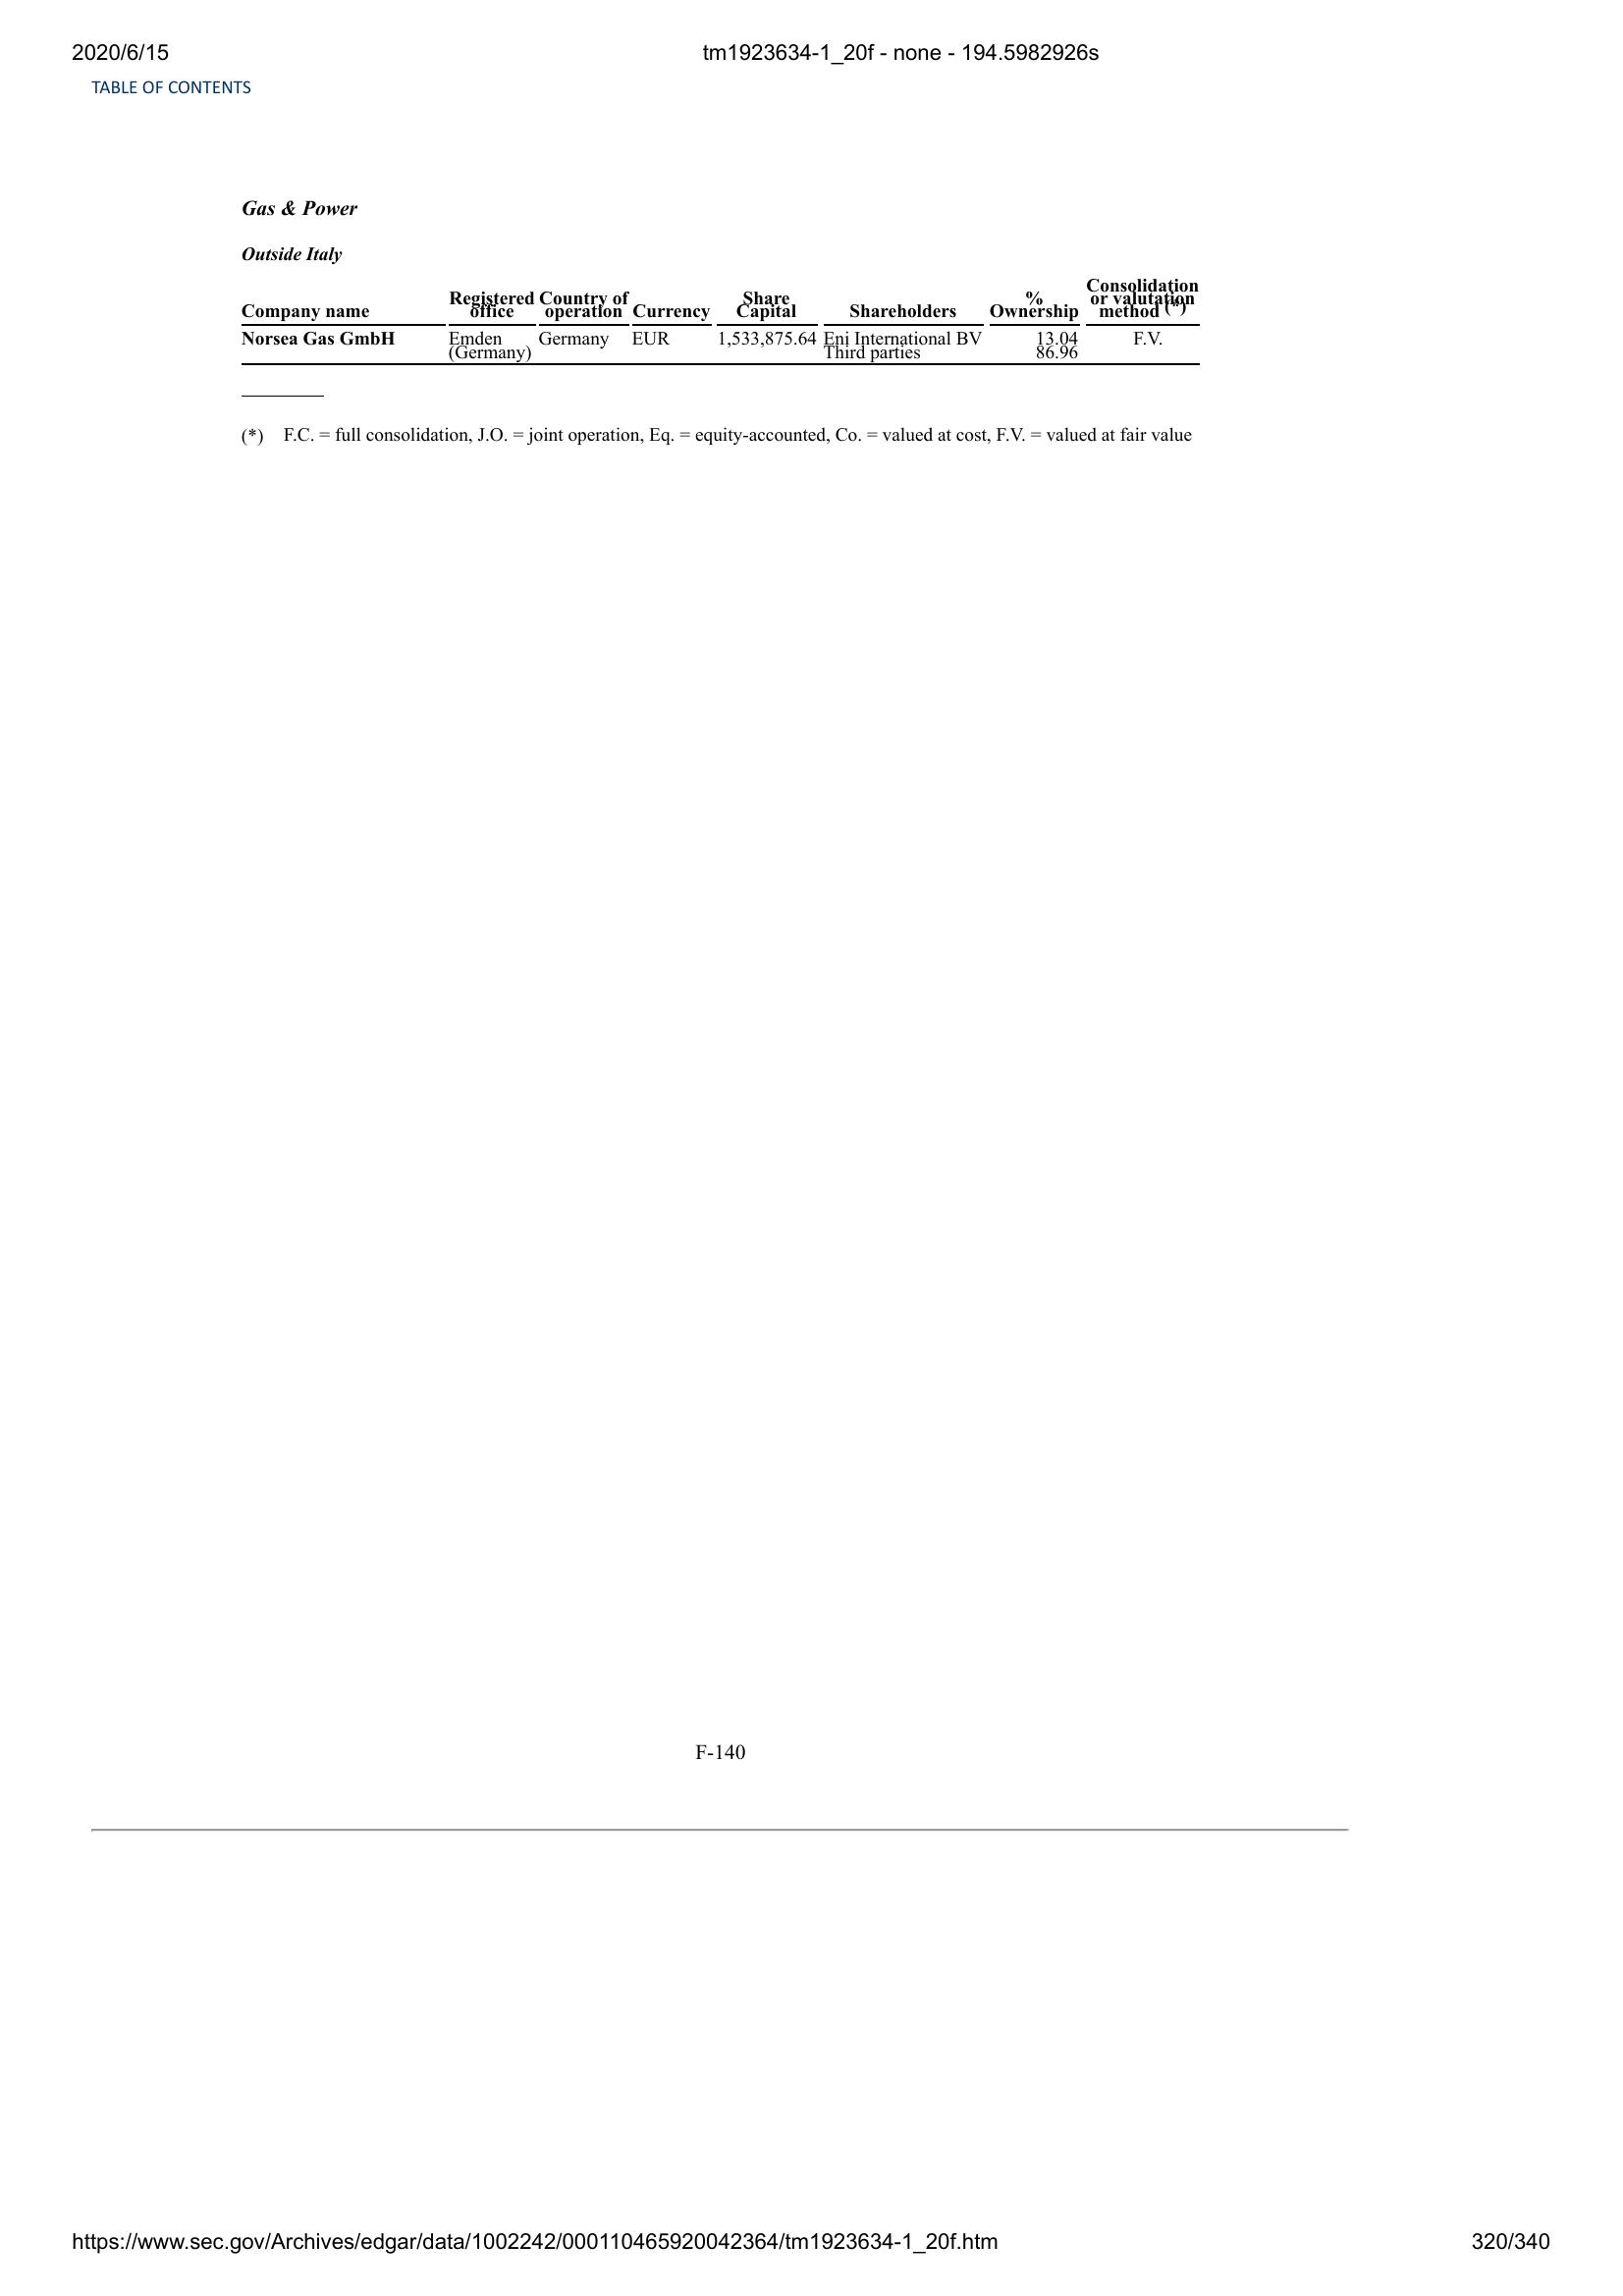table: (237, 267, 1208, 374)
